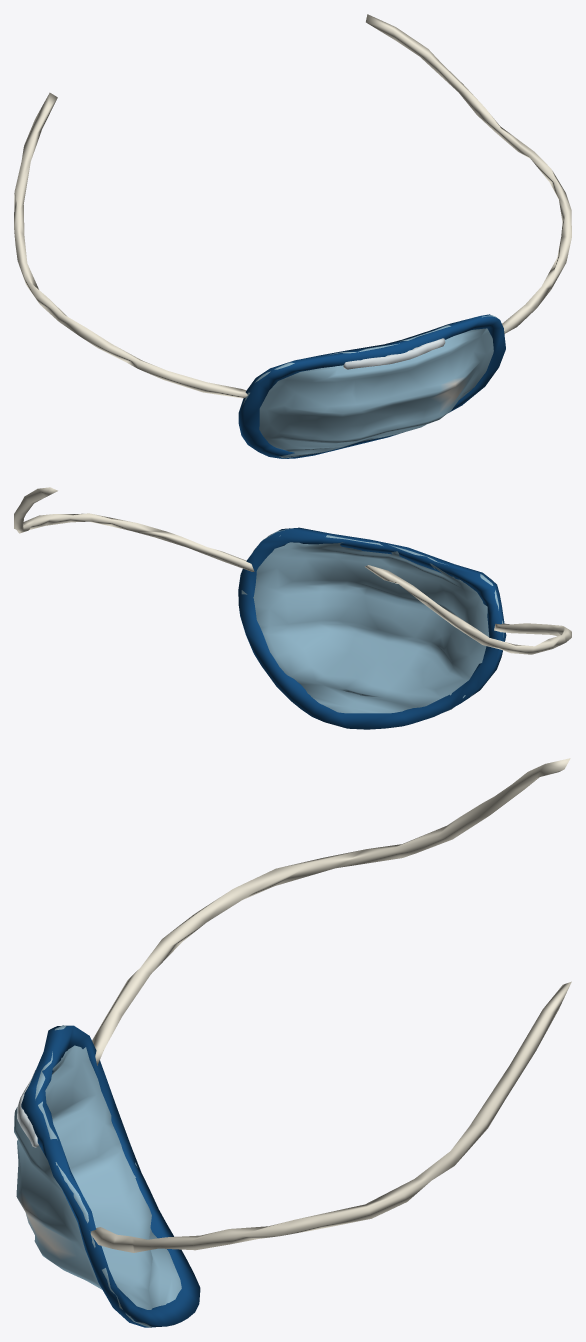
File: khautrang.glb
3 views of the same model, one above another, from view 1: azimuth 30°, elevation 25°; view 2: azimuth 150°, elevation 25°; view 3: azimuth 270°, elevation 25° (orthographic). The views are drawn at different scales.
Visible parts, largest first — view 1: Khau_Trang, Quai_Thun, Vien_May, Nep_Mui; view 2: Khau_Trang, Vien_May, Quai_Thun; view 3: Khau_Trang, Quai_Thun, Vien_May.
Boxes of the visible parts, box(x1,y1,x2,y2) form: Khau_Trang: box(243, 315, 496, 458); Quai_Thun: box(14, 14, 571, 398); Vien_May: box(238, 314, 505, 458); Nep_Mui: box(343, 338, 445, 369); Khau_Trang: box(241, 528, 503, 713); Vien_May: box(238, 527, 506, 729); Quai_Thun: box(14, 487, 571, 654); Khau_Trang: box(14, 1025, 181, 1327); Quai_Thun: box(91, 758, 571, 1252); Vien_May: box(21, 1025, 200, 1327).
Bounding box in the file's own units: 0.2831 × 0.1548 × 0.1828.
